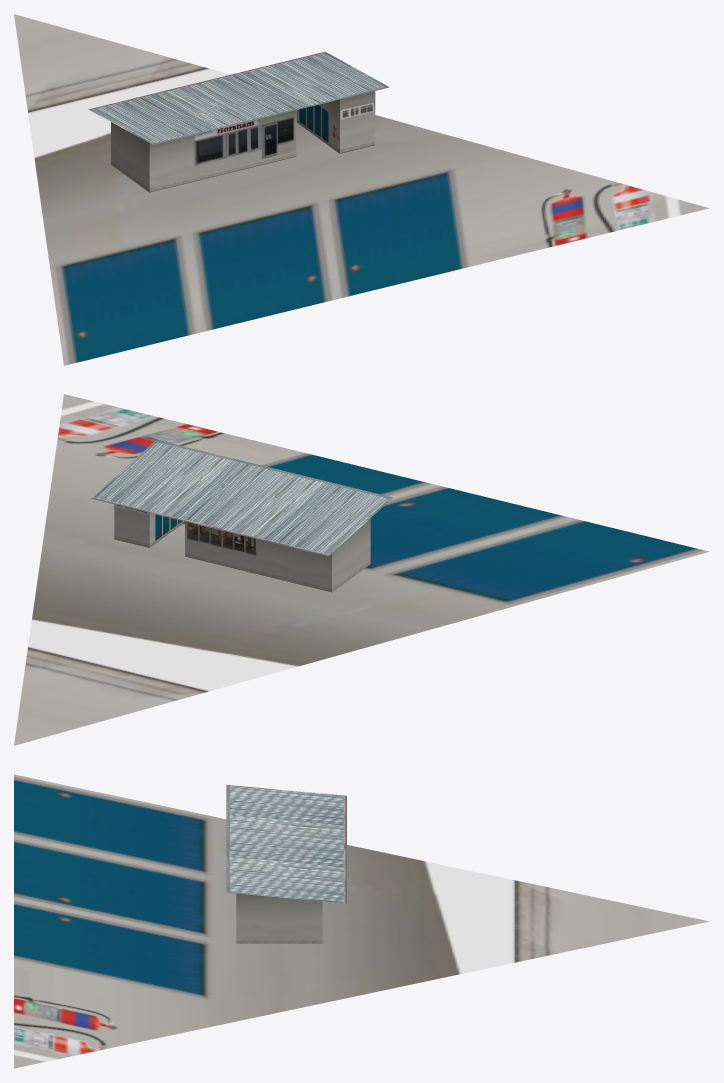
Rendered from terminal-small-01-17x7-cbj_LOD02.gltf.
The picture shows the model from 3 angles, top to bottom: view 1: azimuth 30°, elevation 25°; view 2: azimuth 150°, elevation 25°; view 3: azimuth 270°, elevation 25°; orthographic projection. The views are drawn at different scales.
Visible parts, largest first — view 1: building02, roof02; view 2: building02, roof02; view 3: building02, roof02.
Part boxes in pixels (<box>): building02: <box>14,14,709,365</box>; roof02: <box>88,51,389,144</box>; building02: <box>14,394,709,745</box>; roof02: <box>92,439,392,556</box>; building02: <box>14,774,709,1068</box>; roof02: <box>226,785,346,903</box>.
Bounding box in the file's own units: 47.44 × 6.17 × 47.44.
